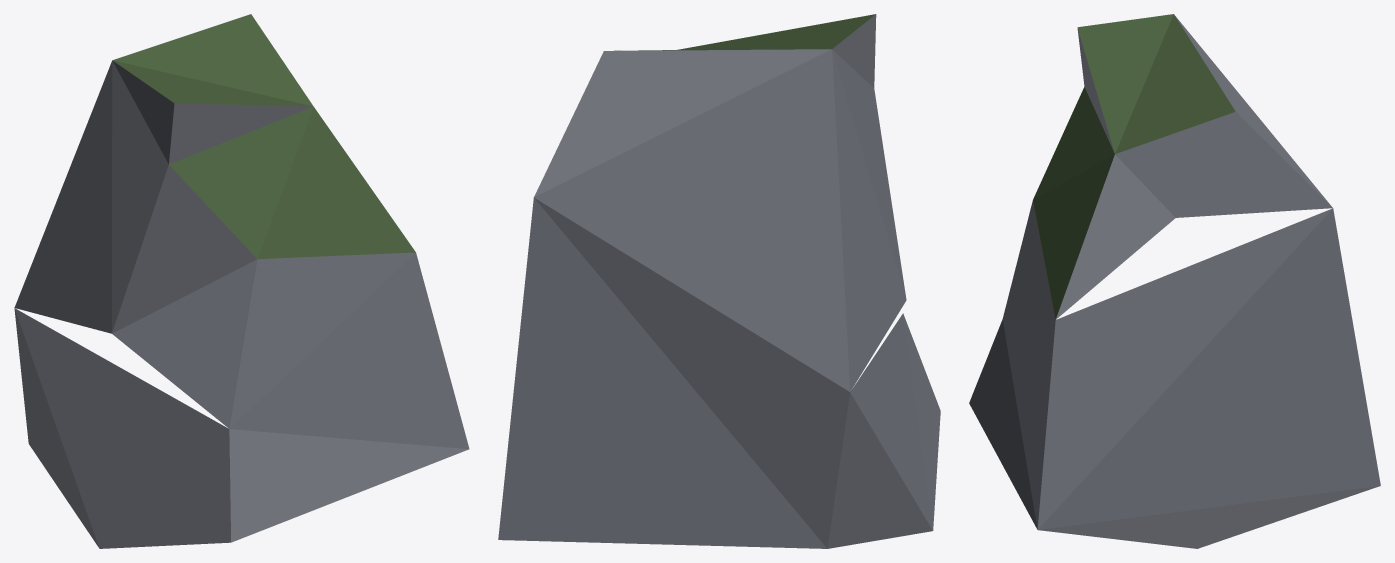
File: Rock_Moss_2_lod.glb
3 renders of one model, left to right at view 1: azimuth 30°, elevation 25°; view 2: azimuth 150°, elevation 25°; view 3: azimuth 270°, elevation 25°, orthographic. The views are drawn at different scales.
Parts seen in each view (by area): view 1: Rock_Moss_2; view 2: Rock_Moss_2; view 3: Rock_Moss_2.
Boxes of the visible parts, left/top/right/bottom form: Rock_Moss_2: left=14, top=14, right=469, bottom=548; Rock_Moss_2: left=498, top=14, right=940, bottom=548; Rock_Moss_2: left=969, top=14, right=1380, bottom=548.
Bounding box in the file's own units: 0.5539 × 0.6918 × 0.6093.
